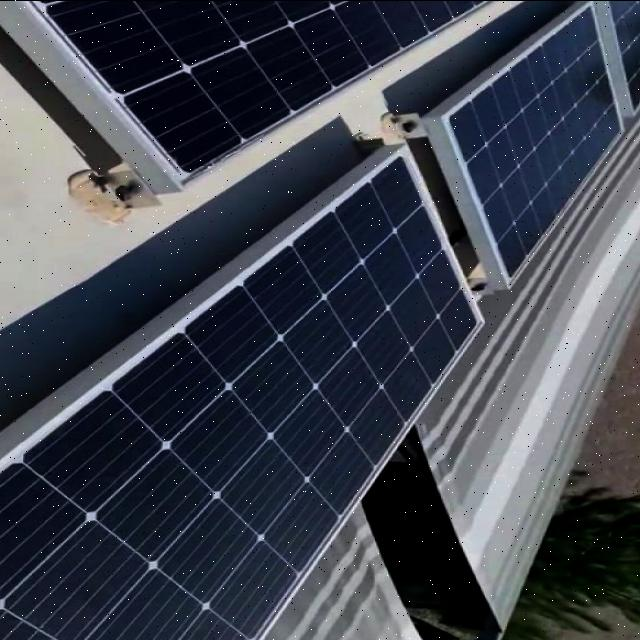Normal Solar Panel: (0, 150, 486, 640), (0, 0, 498, 184), (441, 0, 628, 284), (606, 0, 640, 112)
